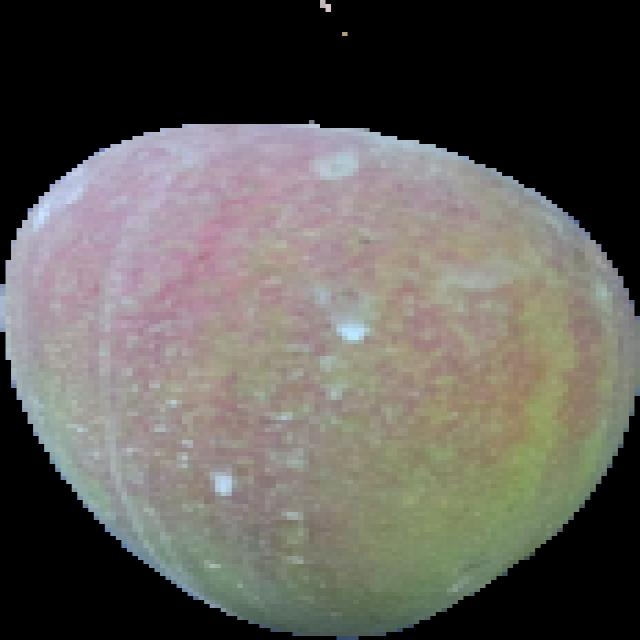Mango-sano: (0, 120, 639, 639)
